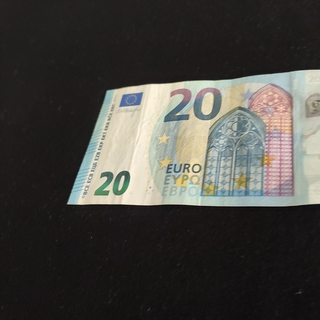20EUROFront: (66, 67, 320, 207)
